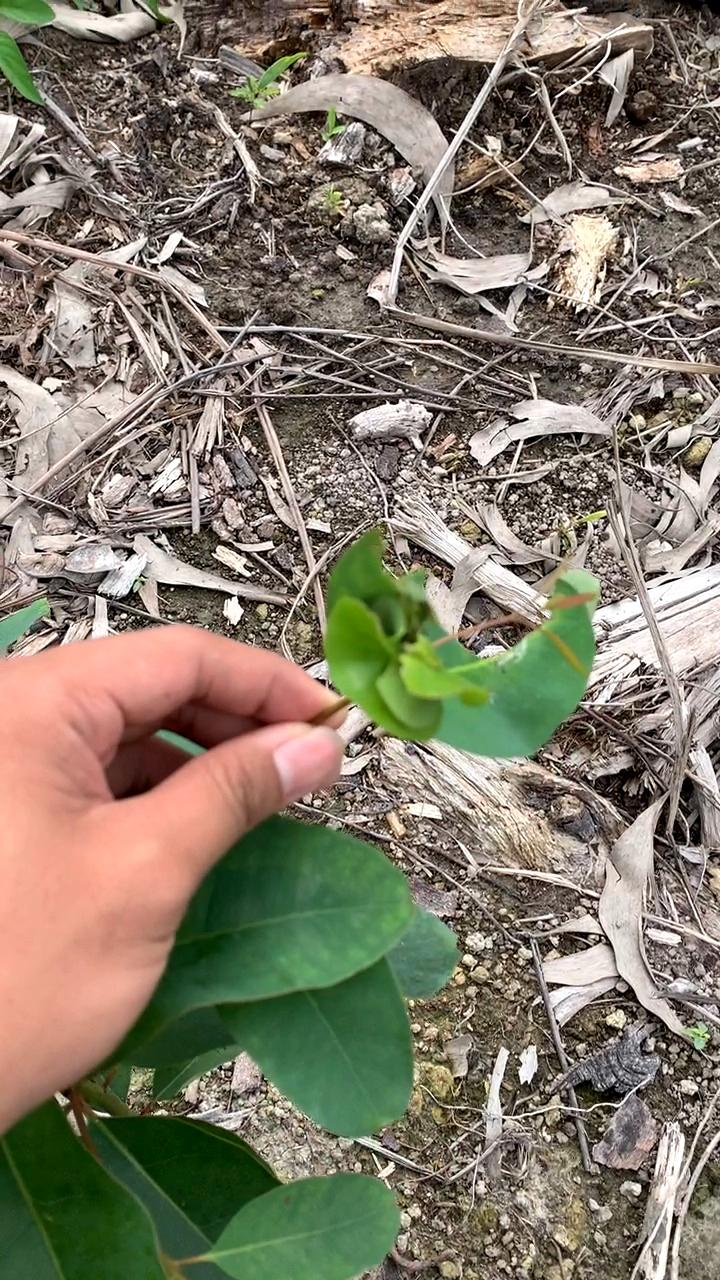Leaf Roller - Leaf: (318, 541, 593, 765)
